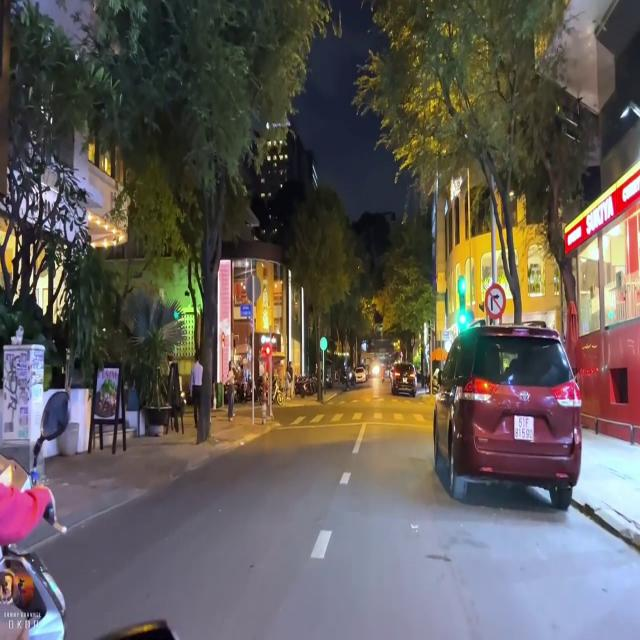bien_trang: (513, 413, 537, 448)
